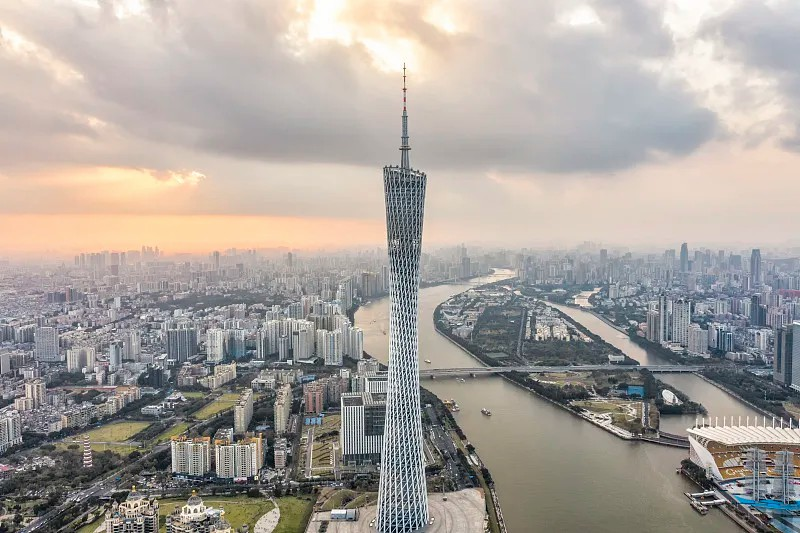Canton: (376, 63, 431, 533)
